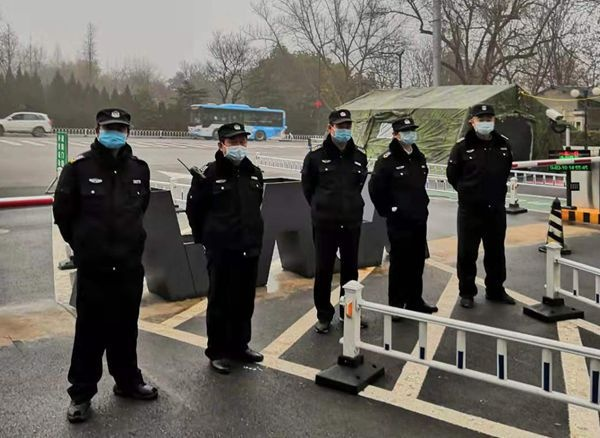correctlyWear: (94, 123, 129, 150), (216, 137, 247, 161), (391, 124, 421, 147), (327, 121, 355, 144), (473, 114, 498, 136)
